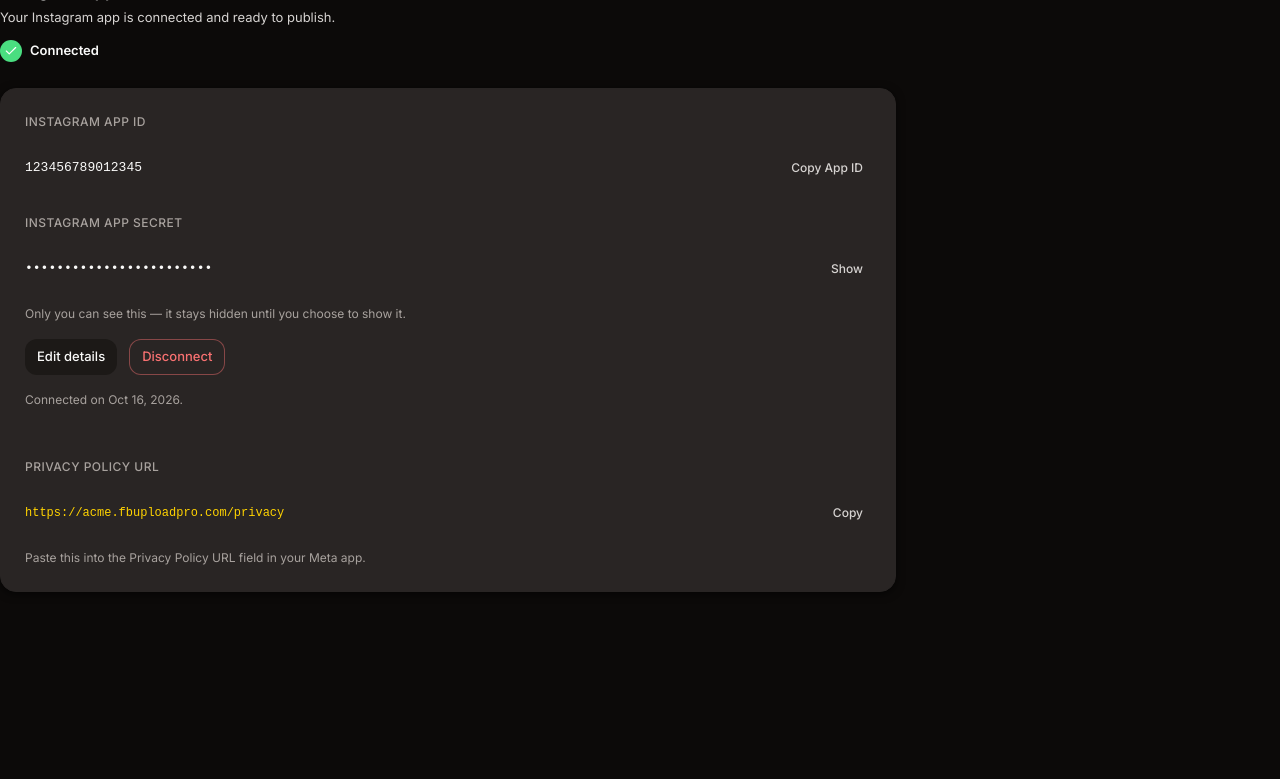
Test: Edit details re-opens the form with the App ID pre-filled, the secret blank, and the card back
This screenshot has width=1280, height=779.
Click the button "Edit details".
click(71, 357)  # box [25, 339, 117, 375]
(page scrolled)
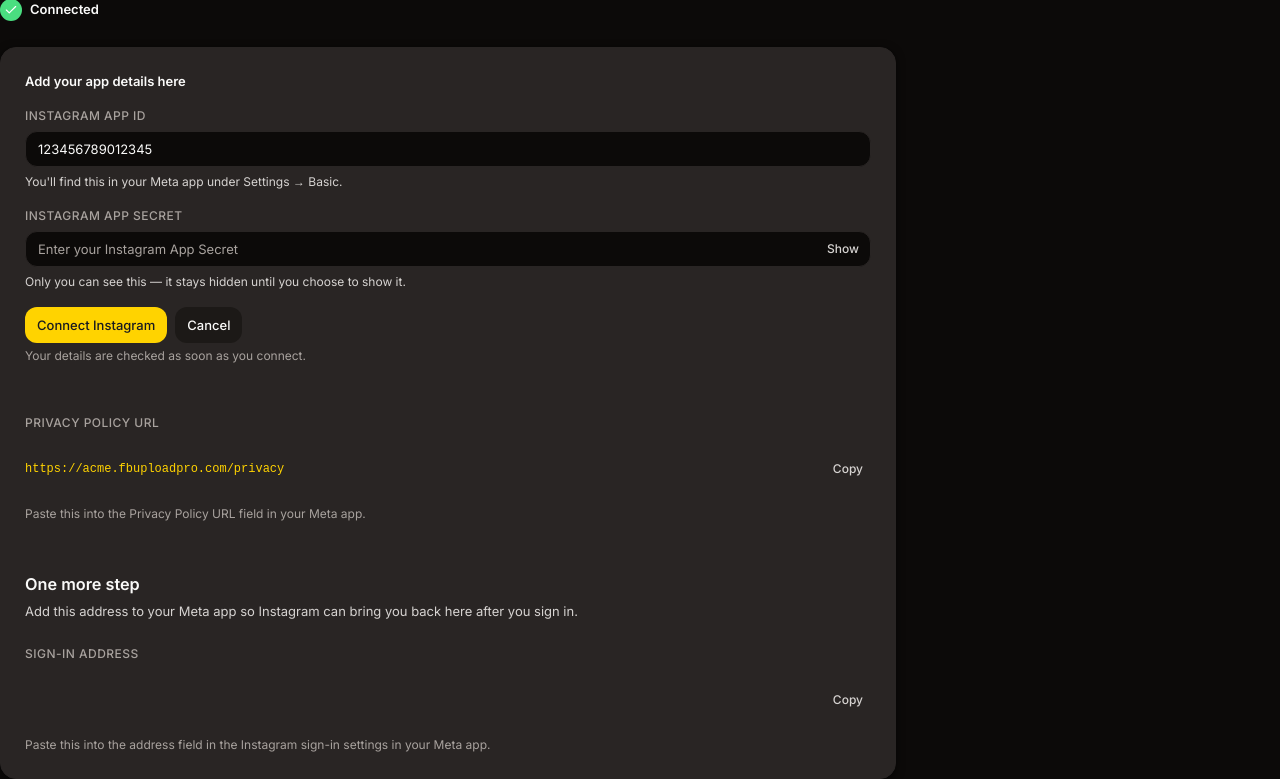
Check: the heading "Add your app details here" is shown, box [25, 72, 186, 91]
